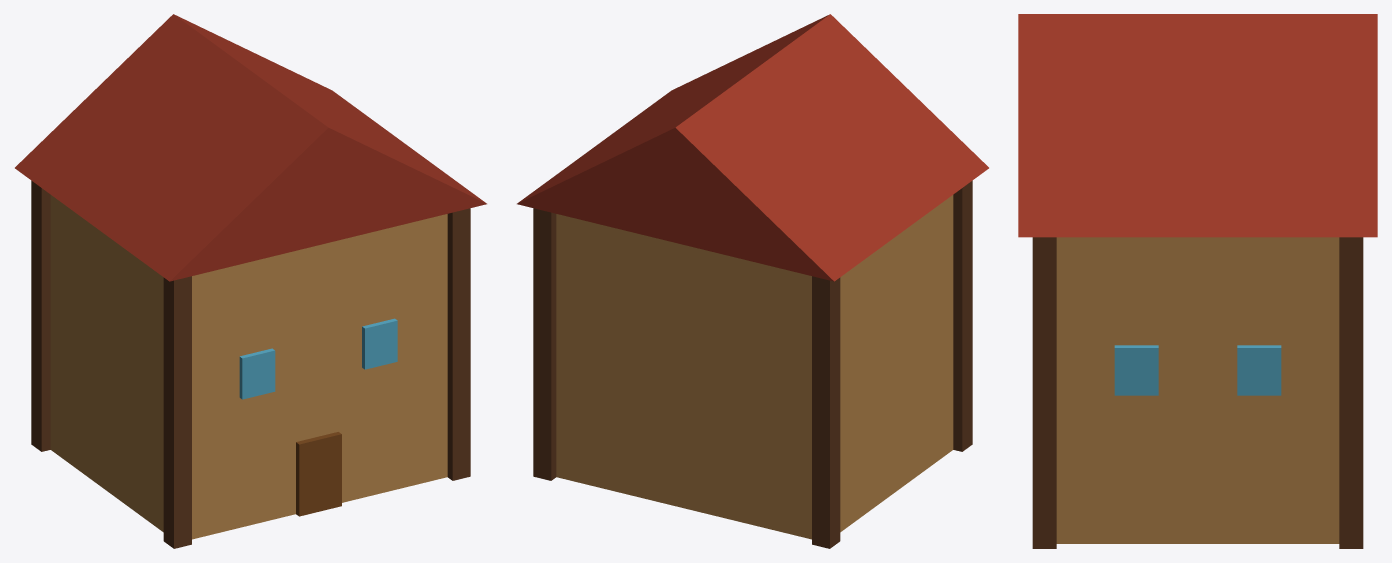
Rendered from barn.glb.
3 renders of one model, left to right at view 1: azimuth 30°, elevation 25°; view 2: azimuth 150°, elevation 25°; view 3: azimuth 270°, elevation 25°, orthographic. The views are drawn at different scales.
Visible parts, largest first — view 1: beams; view 2: beams; view 3: beams.
Boxes of the visible parts, box(x1,y1,x2,y2) form: beams: box(15, 14, 486, 548); beams: box(517, 14, 988, 548); beams: box(1018, 14, 1377, 548).
Bounding box in the file's own units: 1.94 × 2.27 × 1.64.
